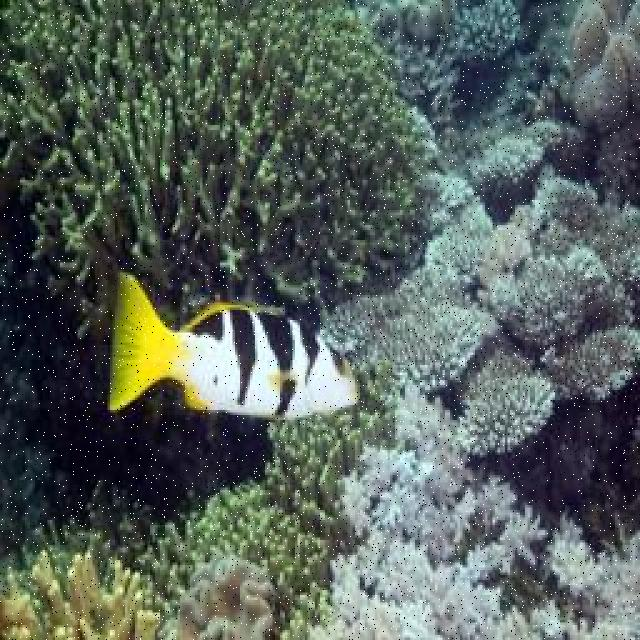fish: (112, 273, 359, 419)
reefs: (0, 0, 445, 543), (155, 546, 277, 638)
